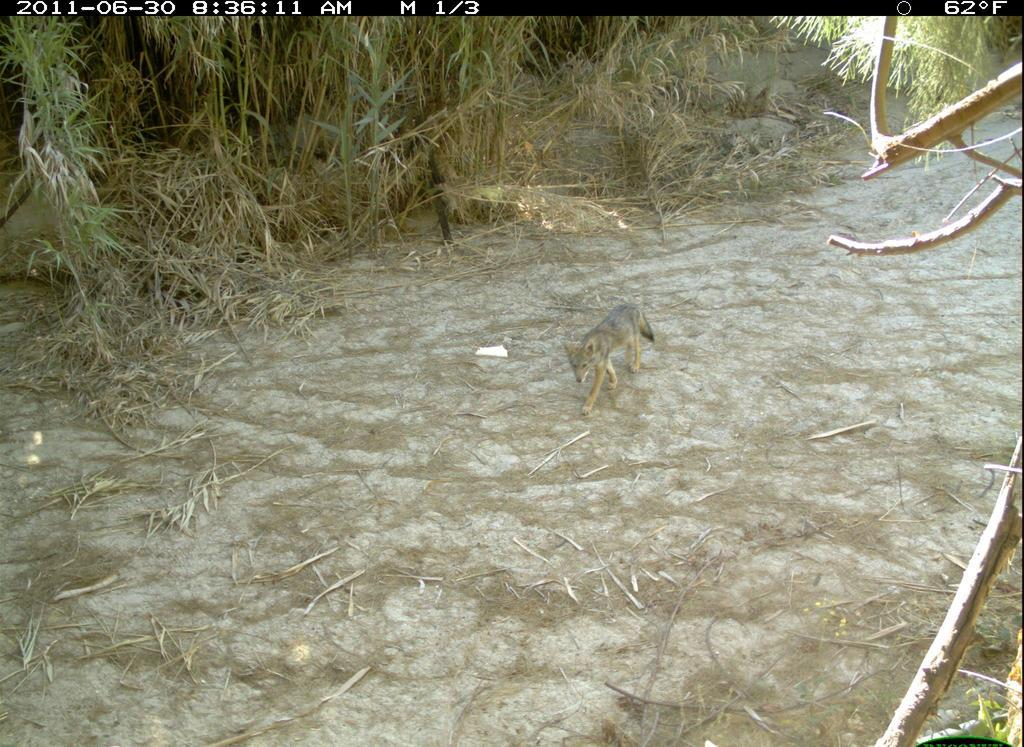coyote: (556, 296, 665, 421)
